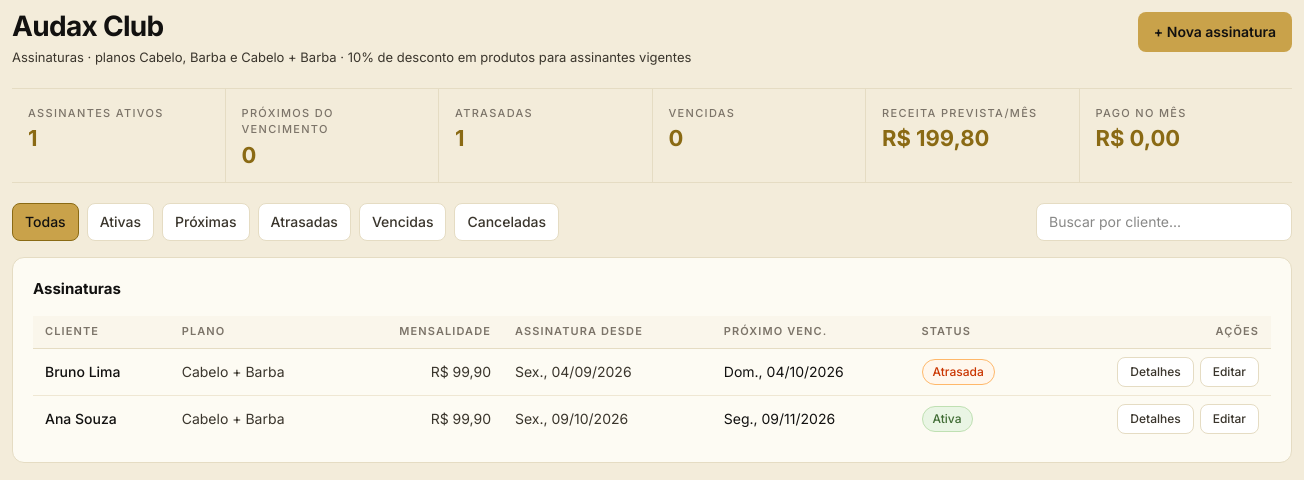
Test: Audax Club — página › filtra por situação e busca por cliente
Click the button "Atrasadas": point(304, 222) [258,202,351,240]
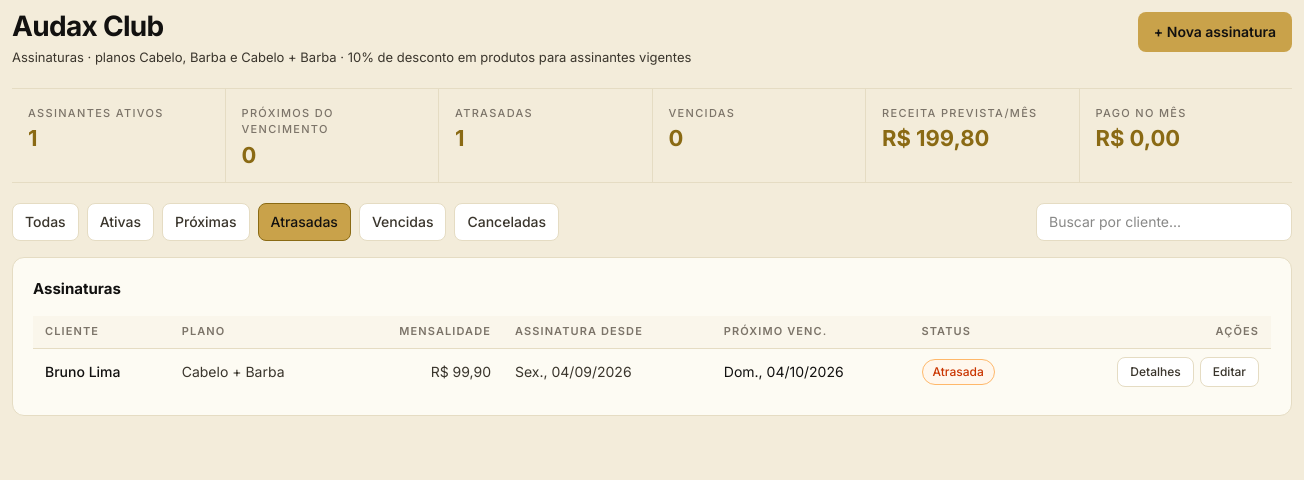
expect the text "Bruno Lima" is shown: met, box [33,348,170,395]
expect the text "Ana Souza" is gone: met
Click the button "Ativas": point(120, 222) [87,202,154,240]
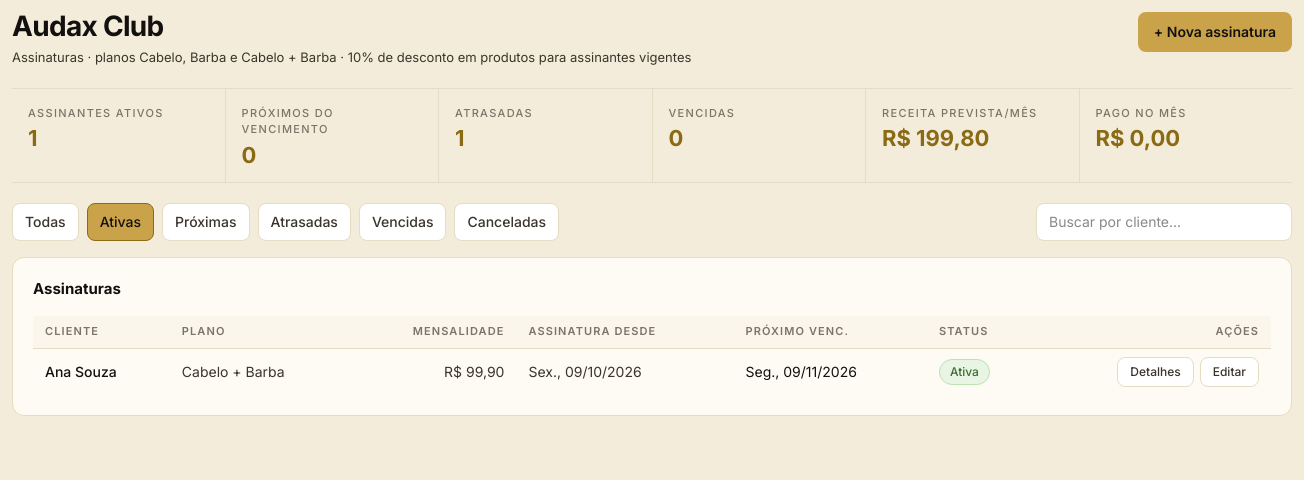
expect the text "Ana Souza" is shown: met, box [33,348,170,395]
expect the text "Bruno Lima" is gone: met
Click the button "Todas": point(45, 222) [12,202,79,240]
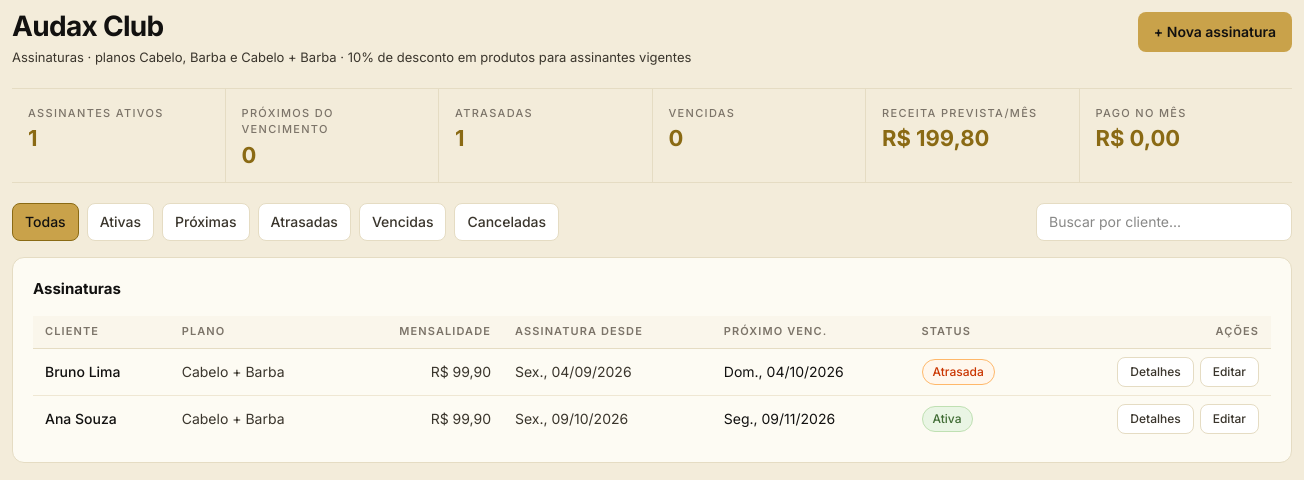
In the field named "Buscar assinatura por cliente": point(1164, 222) [1036,202,1292,240], type "bruno"
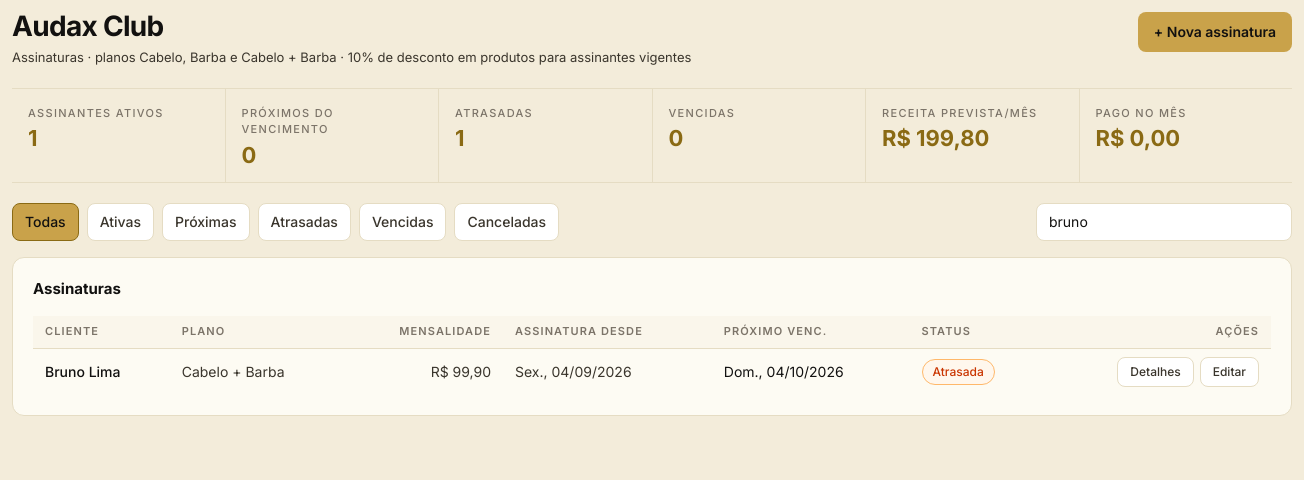
expect the text "Bruno Lima" is shown: met, box [33,348,170,395]
expect the text "Ana Souza" is gone: met
